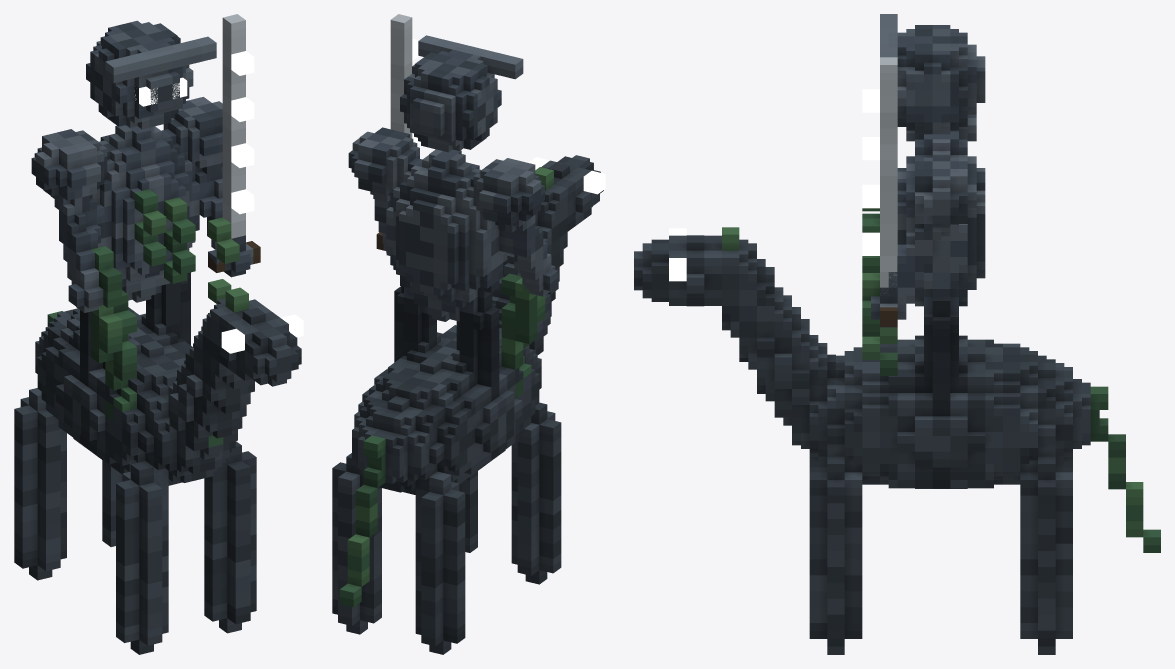
Rendered from u_cavalier.glb.
3 renders of one model, left to right at view 1: azimuth 30°, elevation 25°; view 2: azimuth 150°, elevation 25°; view 3: azimuth 270°, elevation 25°, orthographic. The views are drawn at different scales.
Parts seen in each view (by area): view 1: cavalier_body, cavalier_weapon, cavalier_weaponglow, cavalier_glow; view 2: cavalier_body, cavalier_weapon, cavalier_glow; view 3: cavalier_body, cavalier_weapon, cavalier_weaponglow.
Part boxes in pixels (x1,y1,x2,y2): cavalier_body: [14, 20, 301, 654]; cavalier_weapon: [208, 14, 260, 272]; cavalier_weaponglow: [231, 51, 254, 214]; cavalier_glow: [135, 77, 303, 353]; cavalier_body: [332, 35, 603, 654]; cavalier_weapon: [376, 14, 412, 250]; cavalier_glow: [528, 157, 605, 194]; cavalier_body: [634, 14, 1160, 654]; cavalier_weapon: [880, 57, 897, 326]; cavalier_weaponglow: [862, 89, 879, 255].
Size of the model in its own units: 0.65 by 1.9 by 1.5.
